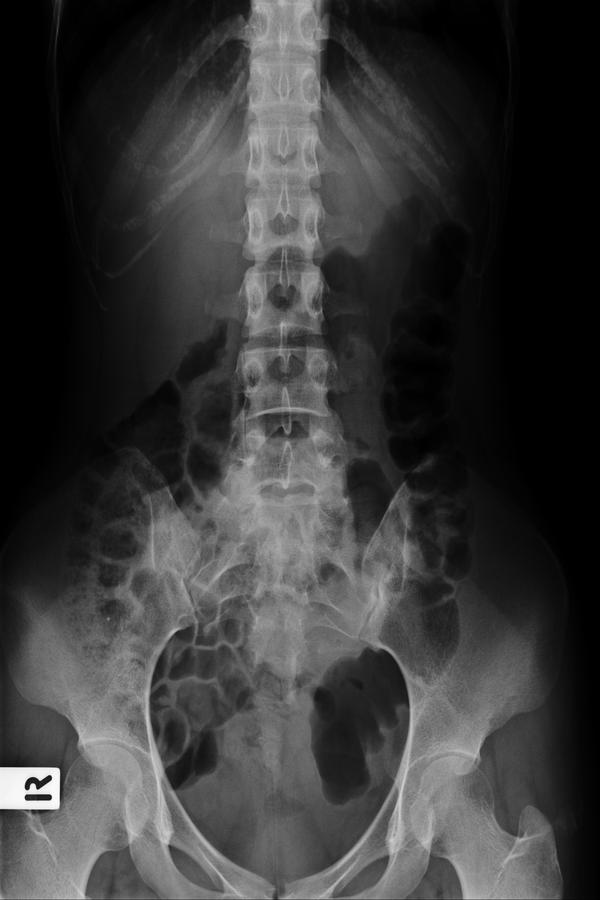not lumbar scoliosis: (235, 169, 337, 548)
